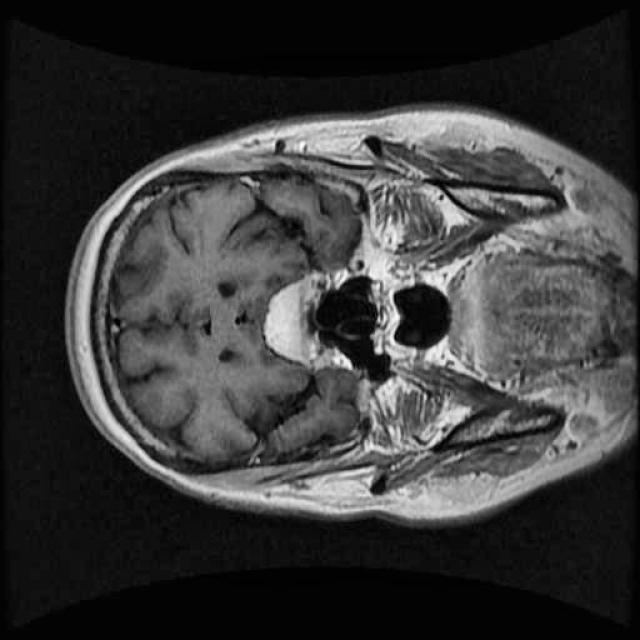Non-Tumor: (245, 250, 339, 394)
